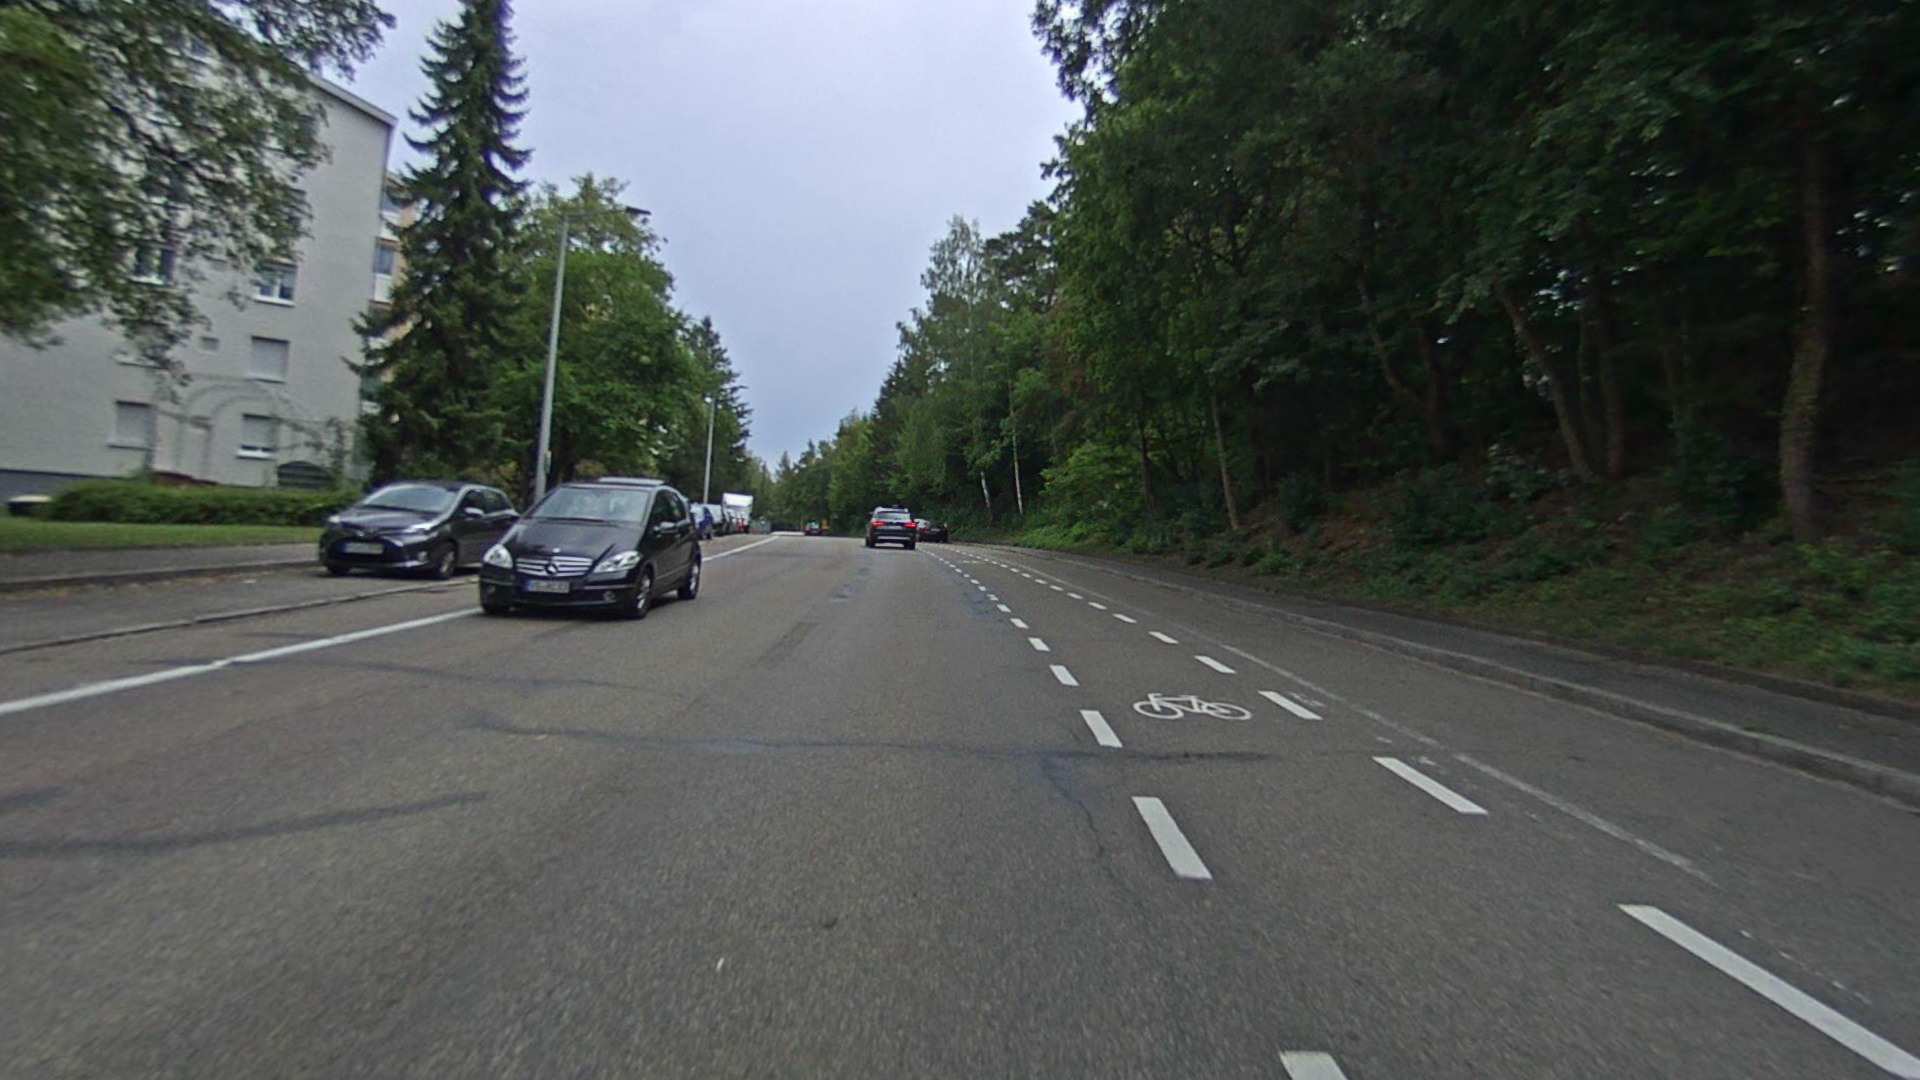car: (473, 475, 702, 624)
